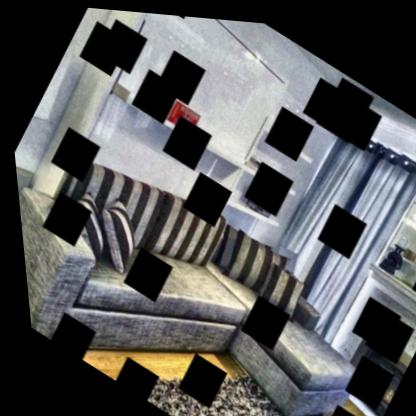Sofa: (10, 131, 386, 416)
